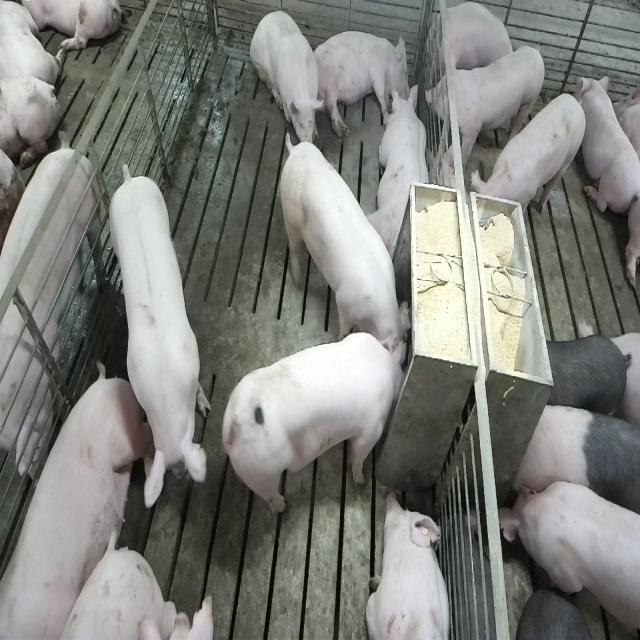Feeding: (219, 334, 409, 530), (277, 130, 410, 366)
Lateral_lying: (0, 362, 143, 640), (311, 29, 411, 138)
Sitting: (249, 6, 324, 150)
Standing: (105, 163, 212, 518), (0, 128, 105, 488), (499, 478, 639, 640), (473, 92, 588, 236), (512, 400, 638, 522), (539, 336, 629, 427), (518, 591, 604, 640), (134, 594, 224, 640)
Sternal_lying: (365, 490, 453, 640), (371, 81, 433, 262), (580, 73, 638, 222), (430, 2, 515, 86)
